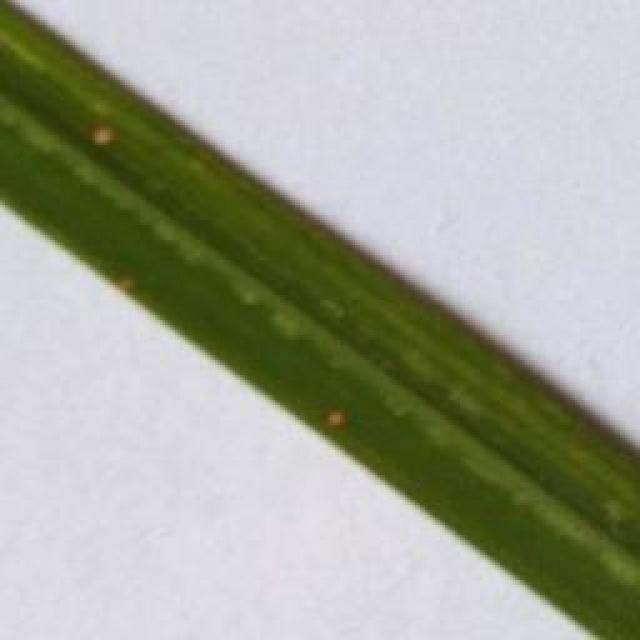Unhealthy: (86, 120, 120, 148), (321, 404, 352, 431)
